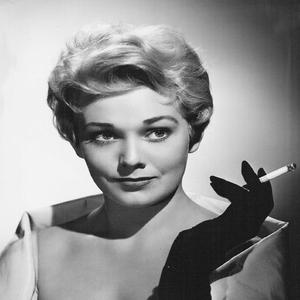cigarette: (249, 165, 295, 187)
